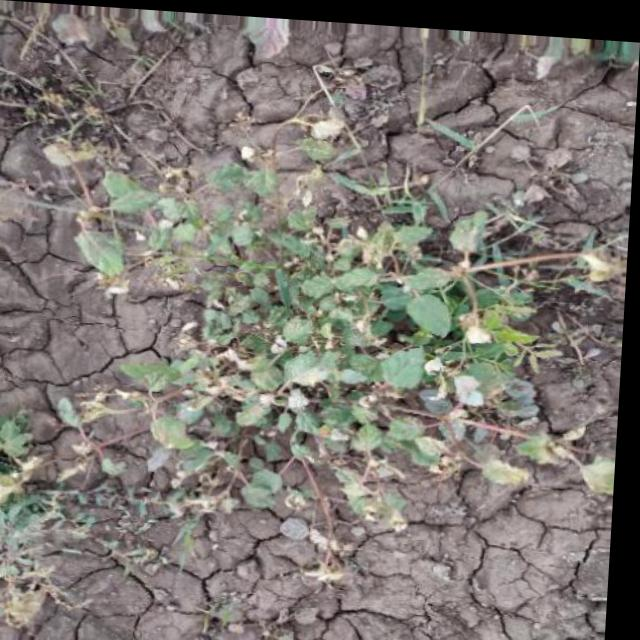weed: (103, 157, 578, 550)
